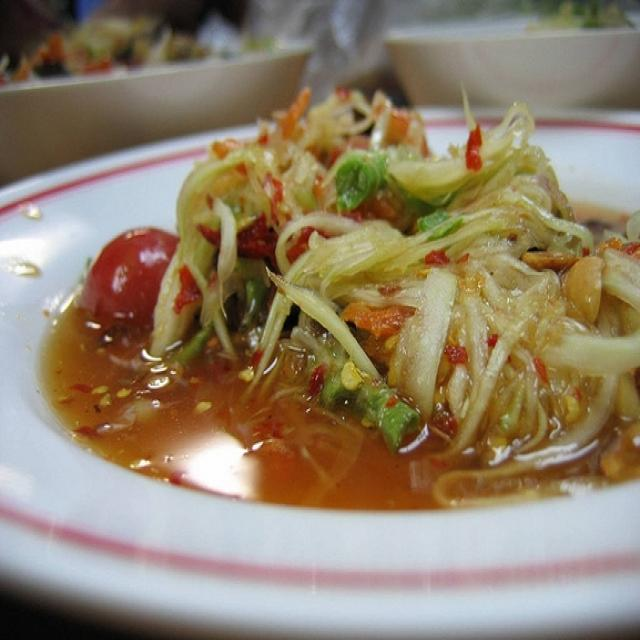蔬菜料理: (38, 37, 626, 570)
